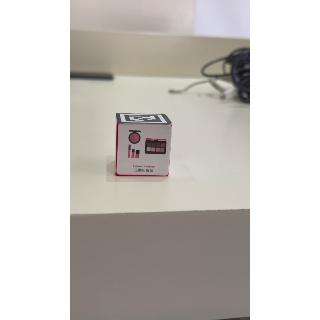Expired_Cosmetic: (122, 124, 173, 177)
